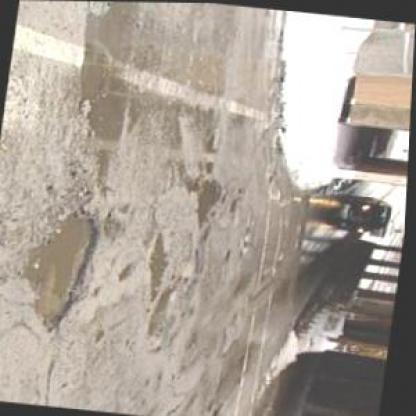pothole: (15, 203, 107, 334), (141, 274, 188, 354), (146, 230, 176, 300), (192, 175, 230, 229)
